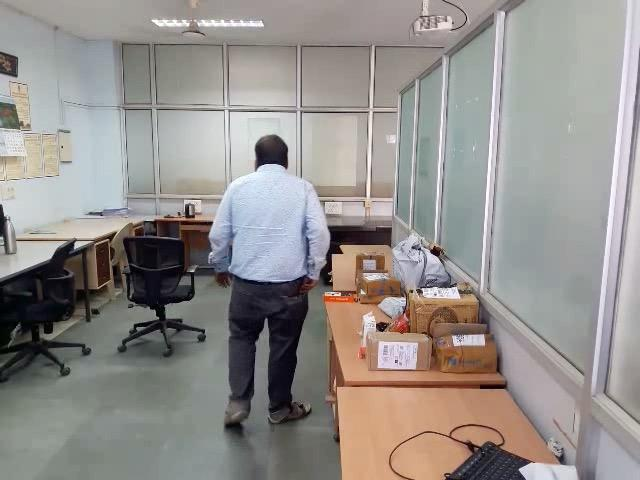shoplifting: (236, 262, 391, 354)
